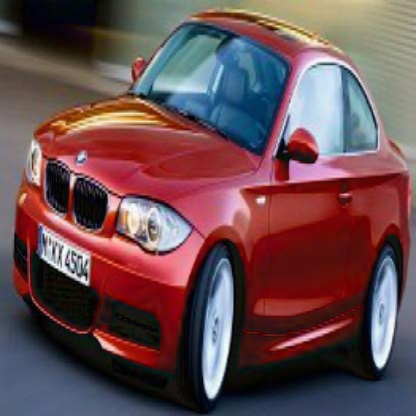Vehicle: (12, 10, 414, 414)
